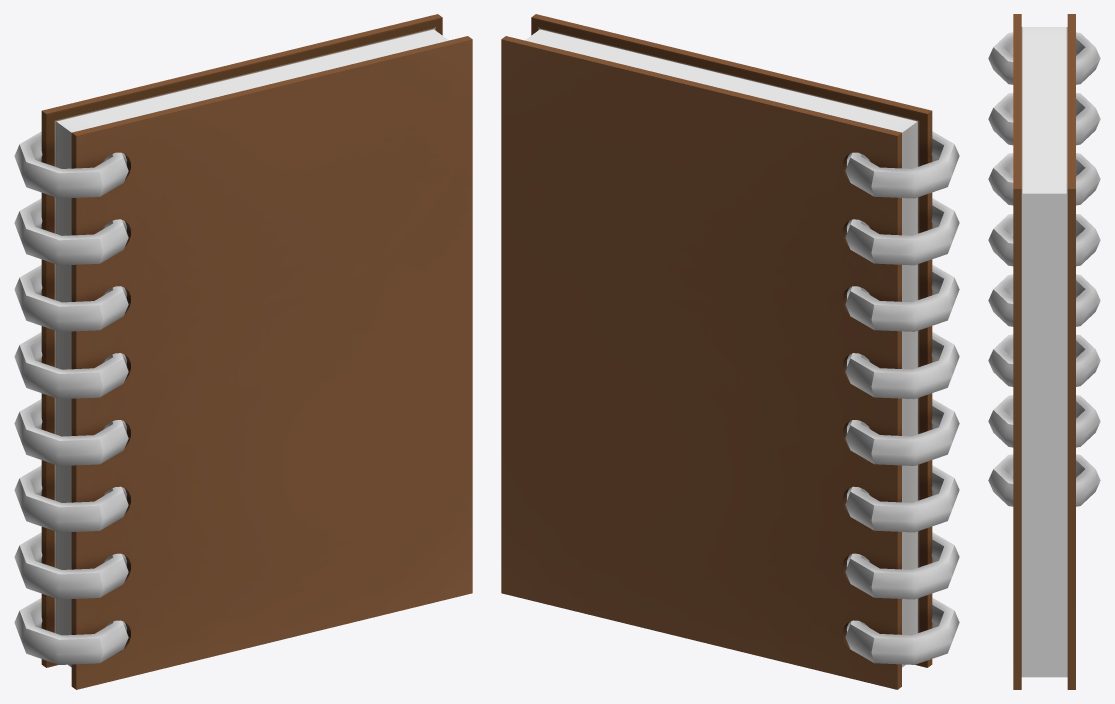
File: ENV2010094.fbx
3 views of the same model, side by side, from view 1: azimuth 30°, elevation 25°; view 2: azimuth 150°, elevation 25°; view 3: azimuth 270°, elevation 25° (orthographic). The views are drawn at different scales.
Parts seen in each view (by area): view 1: smENV2010094; view 2: smENV2010094; view 3: smENV2010094.
Part boxes in pixels (box(x1,y1,x2,y2)): smENV2010094: box(14, 14, 472, 689); smENV2010094: box(501, 14, 959, 689); smENV2010094: box(988, 14, 1100, 689).
Bounding box in the file's own units: 13.38 × 16.33 × 3.32.
Materials: 1 (1 with a texture image).
